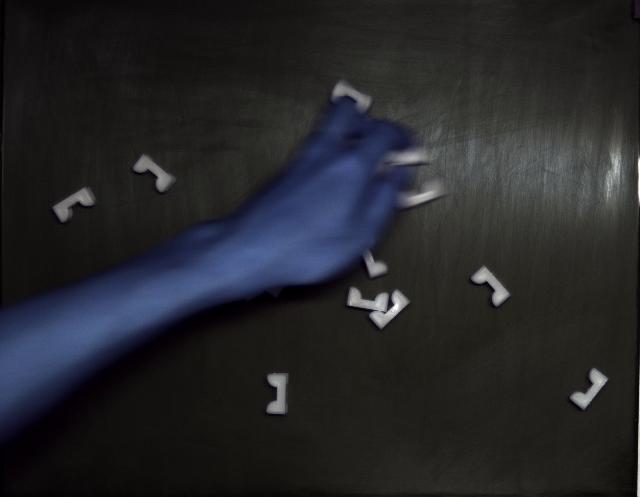third_side: (132, 154, 176, 192), (369, 290, 410, 330), (471, 266, 510, 308), (570, 369, 609, 410), (52, 188, 98, 222), (348, 288, 389, 312), (266, 374, 289, 415)
